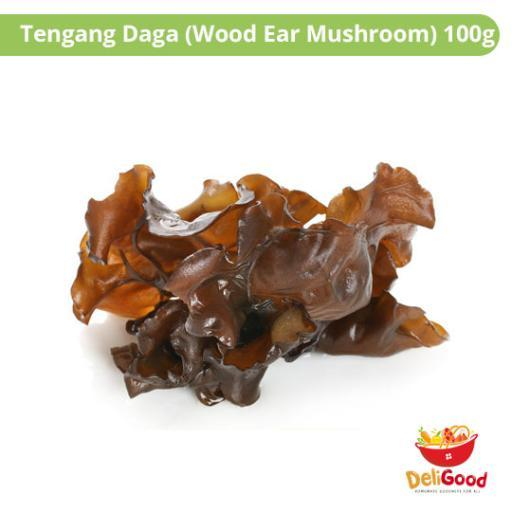mushroom: (58, 149, 471, 412)
